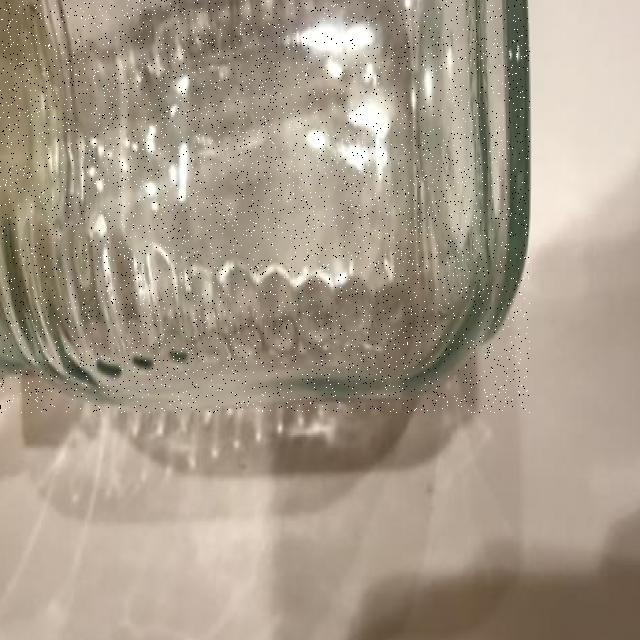glass: (0, 0, 530, 413)
